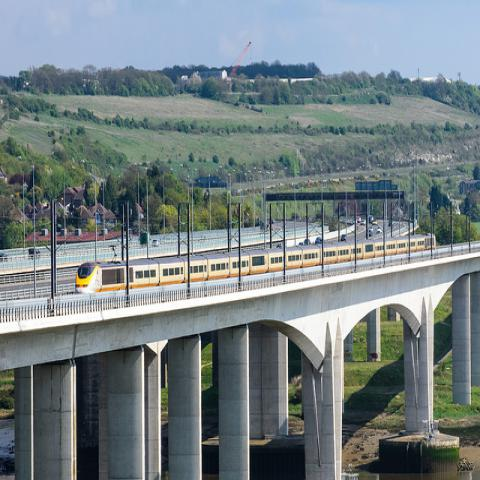car: (368, 225, 374, 237), (315, 236, 322, 245), (340, 234, 346, 242), (376, 227, 382, 234), (369, 214, 374, 222), (372, 221, 378, 226), (360, 220, 365, 226), (304, 240, 310, 244), (357, 216, 361, 222), (388, 220, 390, 226)
